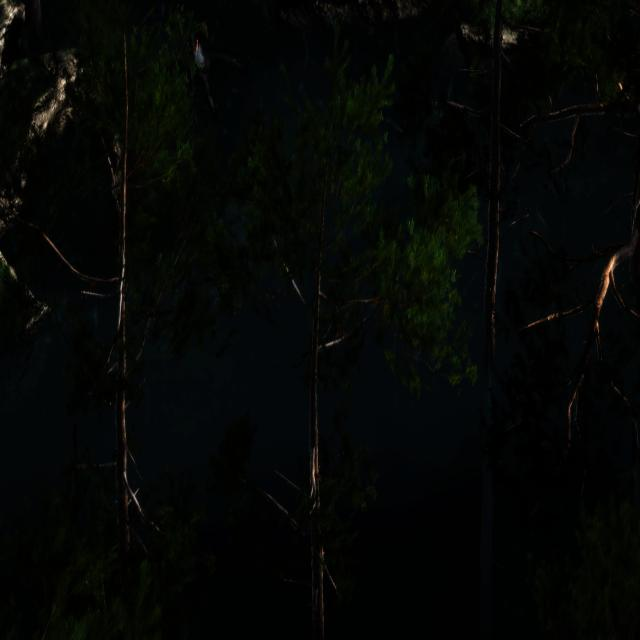Human: (184, 18, 253, 128)
